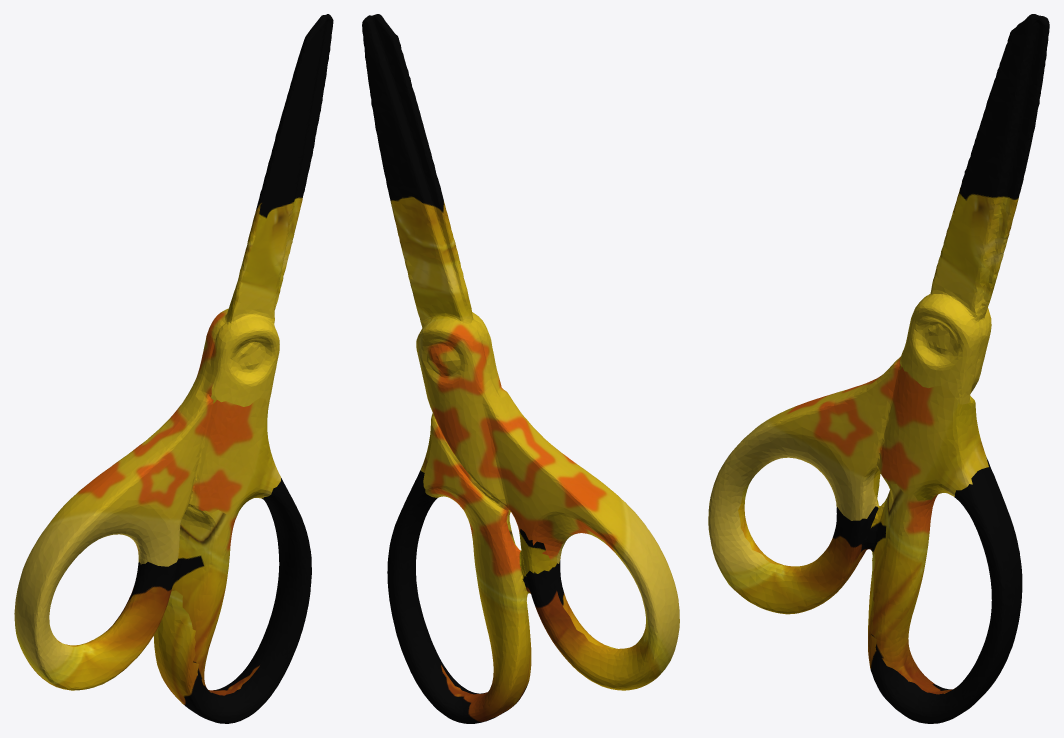
The picture shows the model from 3 angles, left to right: view 1: azimuth 30°, elevation 25°; view 2: azimuth 150°, elevation 25°; view 3: azimuth 330°, elevation 25°; orthographic projection. The views are drawn at different scales.
Visible parts, largest first — view 1: node; view 2: node; view 3: node.
Part boxes in pixels (x1=…): node: x1=14, y1=14, x2=333, y2=723; node: x1=362, y1=14, x2=679, y2=723; node: x1=708, y1=14, x2=1049, y2=723.
Size of the model in its own units: 0.0961 by 0.2015 by 0.0157.
